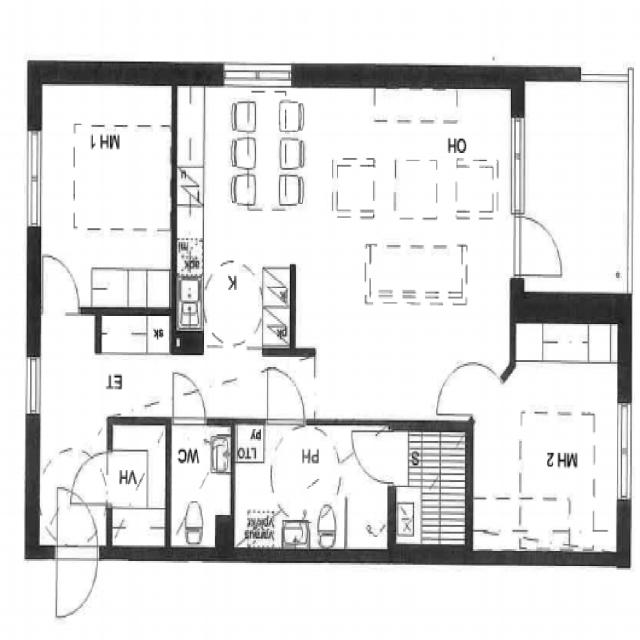door: (46, 492, 104, 623), (510, 208, 572, 284), (260, 361, 311, 432), (429, 356, 483, 423), (348, 420, 398, 489), (65, 448, 113, 510), (39, 252, 84, 318), (167, 370, 211, 430)
window: (504, 113, 533, 220), (21, 122, 47, 237), (612, 396, 636, 510), (218, 58, 298, 89), (22, 348, 45, 422)
zone: (477, 321, 623, 561), (38, 76, 173, 314), (176, 85, 294, 352), (234, 420, 384, 553), (386, 116, 447, 286), (396, 425, 472, 550), (168, 420, 233, 553), (108, 419, 167, 554), (101, 314, 172, 424), (373, 245, 460, 300)
